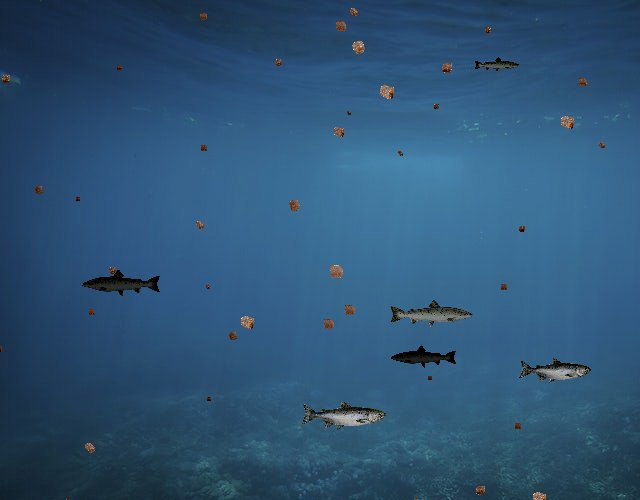Fish: (388, 298, 474, 329), (300, 400, 386, 431), (82, 268, 163, 297), (518, 358, 591, 384), (390, 344, 458, 369), (473, 56, 520, 73)
Pellet: (78, 437, 100, 459), (573, 73, 592, 92), (344, 3, 363, 22), (514, 222, 528, 236), (430, 101, 443, 114), (113, 62, 125, 74), (202, 282, 212, 292)
